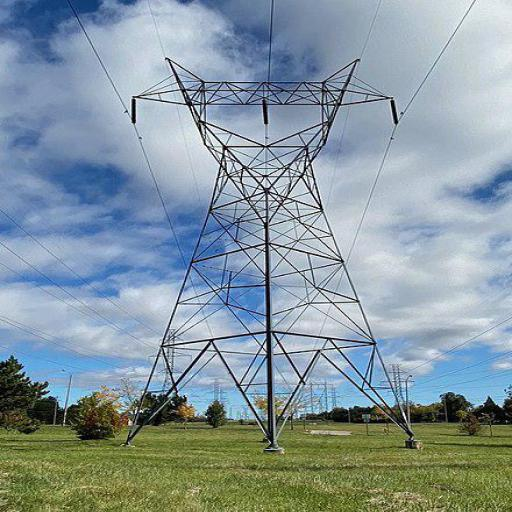wt_5: (115, 51, 419, 458)
